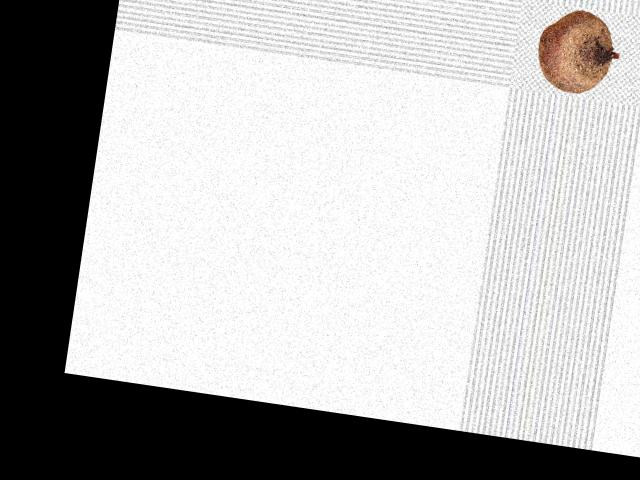beet: (533, 5, 625, 98)
